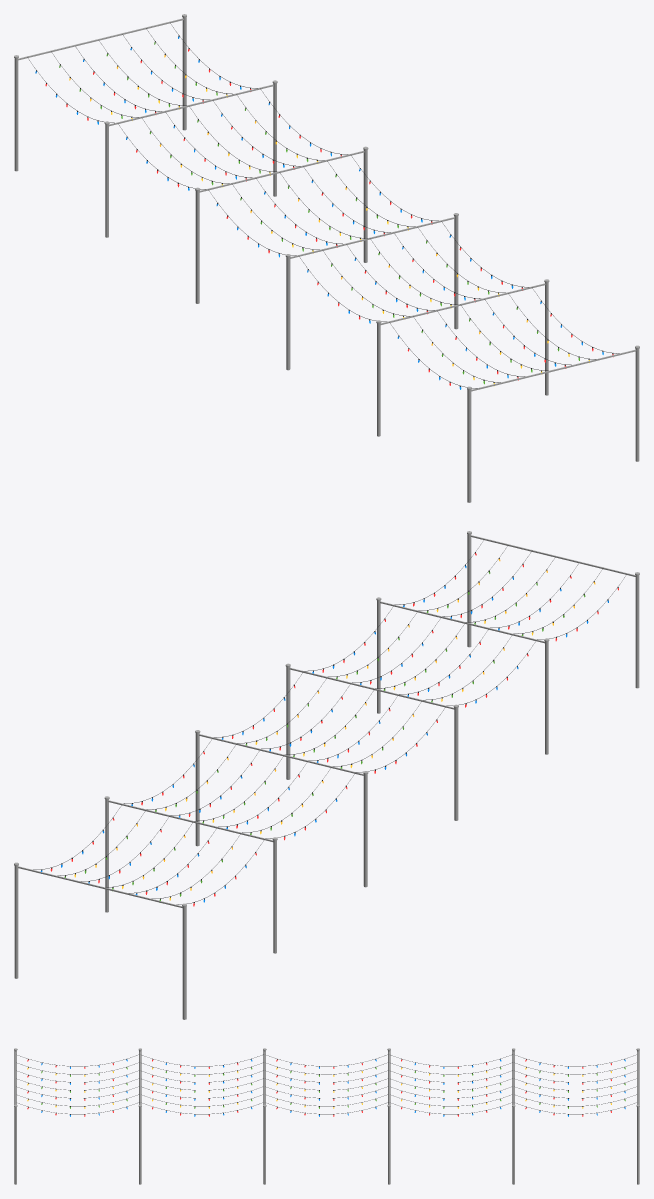
File: Track_Decoration.fbx
3 views of the same model, one above another, from view 1: azimuth 30°, elevation 25°; view 2: azimuth 150°, elevation 25°; view 3: azimuth 270°, elevation 25° (orthographic). The views are drawn at different scales.
Parts seen in each view (by area): view 1: Track_Decoration; view 2: Track_Decoration; view 3: Track_Decoration.
Part boxes in pixels (left/top/right/bottom): Track_Decoration: left=14, top=14, right=639, bottom=502; Track_Decoration: left=14, top=531, right=639, bottom=1019; Track_Decoration: left=14, top=1048, right=639, bottom=1184.
Size of the model in its own units: 12.57 by 7.96 by 57.48.
1 material, 1 textured.
